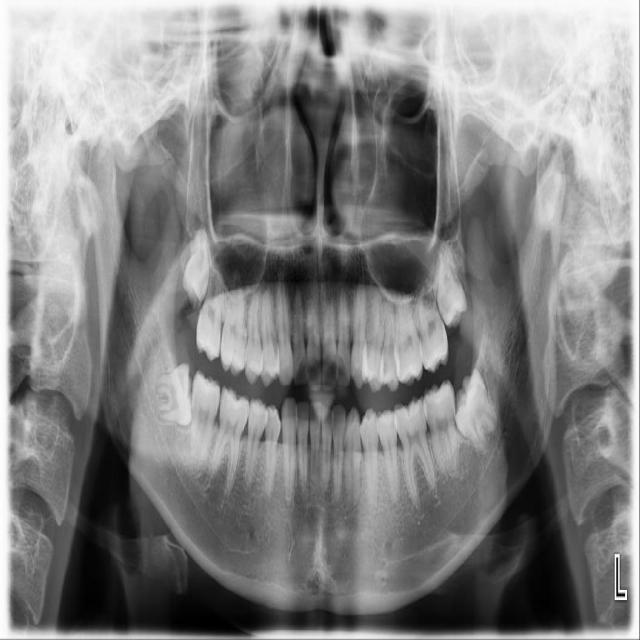3M ESPE Implant: (178, 229, 214, 312)
73: (604, 565, 612, 581)
BioHorizons Implant: (412, 275, 451, 373)
BioLife Implant: (424, 241, 472, 331)
Biomet 3i Implant: (439, 365, 509, 459)
Blue Sky Bio Implant: (421, 379, 461, 482)
Caries: (195, 271, 225, 361)
Implant: (189, 368, 221, 465)
Keystone Dental Implant: (153, 362, 196, 429)
